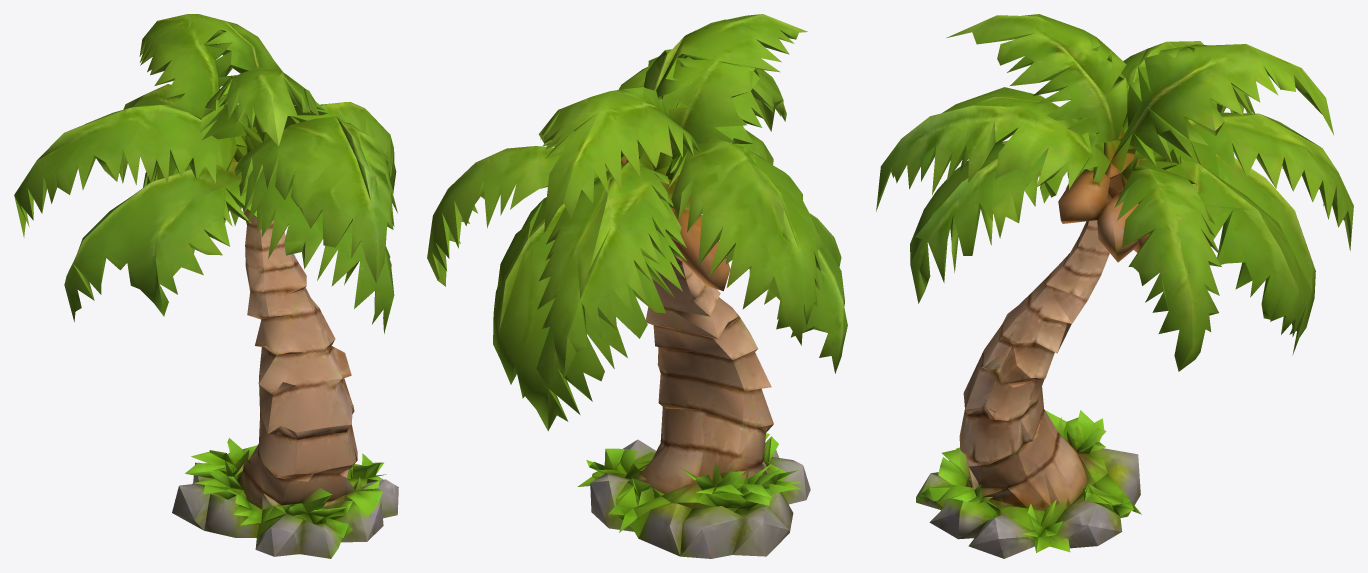
The model's file is palmTreeI.glb.
The picture shows the model from 3 angles, left to right: view 1: azimuth 30°, elevation 25°; view 2: azimuth 150°, elevation 25°; view 3: azimuth 270°, elevation 25°; orthographic projection. The views are drawn at different scales.
Parts seen in each view (by area): view 1: model; view 2: model; view 3: model.
Boxes of the visible parts, x1,y1,x2,y2 form: model: [14, 14, 398, 558]; model: [427, 14, 847, 558]; model: [876, 14, 1353, 558].
Size of the model in its own units: 1.61 by 1.9 by 1.71.
1 material, 1 textured.
